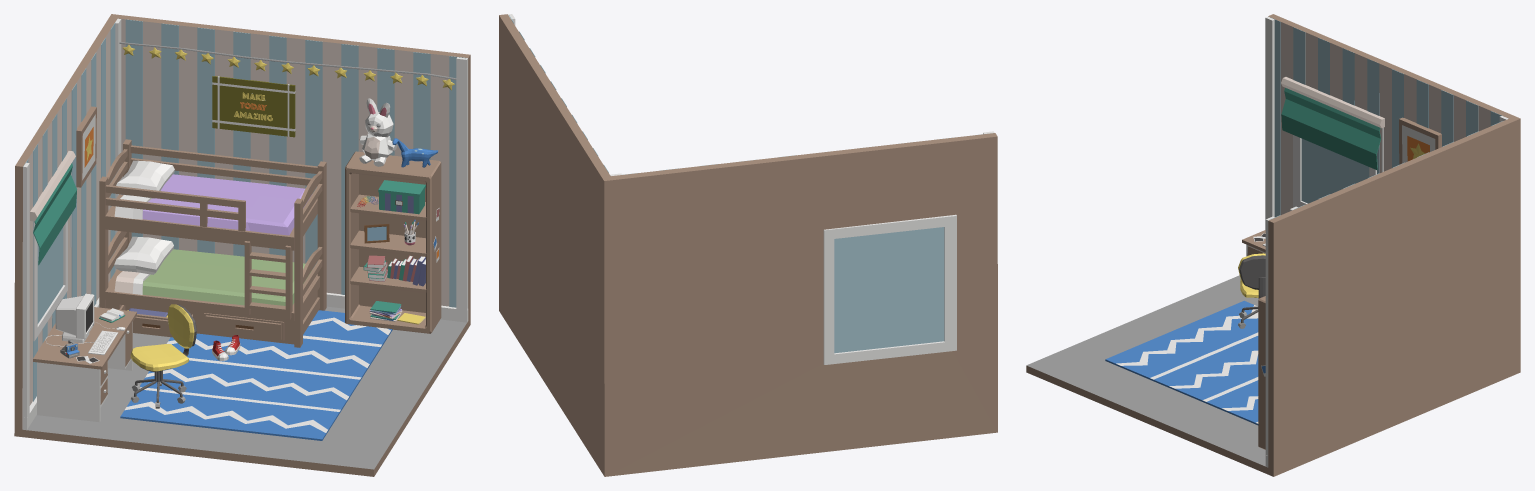
Rendered from Room_16_Kids_Room.fbx.
3 views of the same model, side by side, from view 1: azimuth 30°, elevation 25°; view 2: azimuth 150°, elevation 25°; view 3: azimuth 270°, elevation 25° (orthographic). The views are drawn at different scales.
Parts seen in each view (by area): view 1: Room_16_Base, Room_16_Bed, Room_16_Carpet_1, Room_16_Cupboard, Room_16_Desktop, Room_16_Poster, Room_16_Chair_1, Room_16_Blinds, Room_16_Window, Room_16_Garland_1, Room_16_Toy_Bunny, Room_16_Monitor (+7 smaller); view 2: Room_16_Base, Room_16_Window; view 3: Room_16_Base, Room_16_Carpet_1, Room_16_Blinds, Room_16_Window, Room_16_Picture_1, Room_16_Chair_1, Room_16_Cupboard.
Part boxes in pixels (<box>): Room_16_Base: <box>14,14,470,476</box>; Room_16_Bed: <box>99,139,326,347</box>; Room_16_Carpet_1: <box>120,310,392,440</box>; Room_16_Cupboard: <box>345,151,441,333</box>; Room_16_Desktop: <box>33,307,136,422</box>; Room_16_Poster: <box>212,76,295,137</box>; Room_16_Chair_1: <box>130,304,196,408</box>; Room_16_Blinds: <box>30,151,76,265</box>; Room_16_Window: <box>33,220,67,341</box>; Room_16_Garland_1: <box>119,42,456,90</box>; Room_16_Toy_Bunny: <box>359,98,397,166</box>; Room_16_Monitor: <box>55,293,94,342</box>; Room_16_Base: <box>499,14,997,476</box>; Room_16_Window: <box>823,214,956,364</box>; Room_16_Base: <box>1026,14,1520,476</box>; Room_16_Carpet_1: <box>1105,300,1258,425</box>; Room_16_Blinds: <box>1281,77,1384,172</box>; Room_16_Window: <box>1293,135,1376,207</box>; Room_16_Picture_1: <box>1399,117,1441,164</box>; Room_16_Chair_1: <box>1238,253,1265,328</box>; Room_16_Cupboard: <box>1258,296,1265,449</box>.
Bounding box in the file's own units: 707 × 707 × 401.
